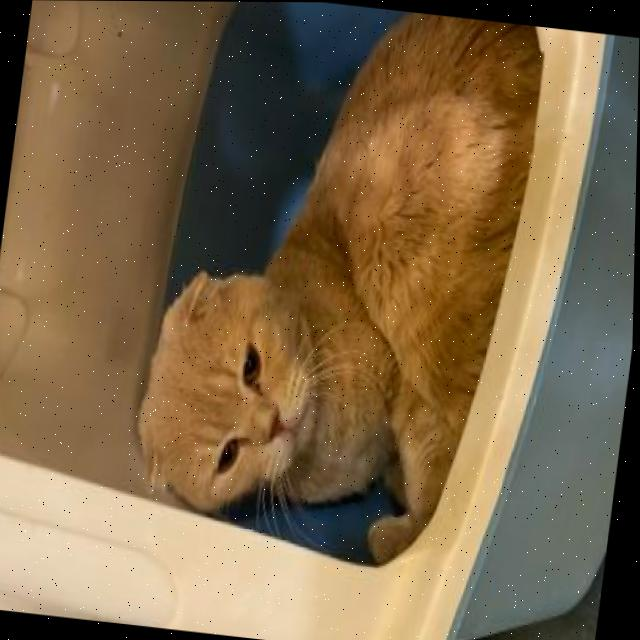Scottish Fold: (119, 1, 551, 577)
